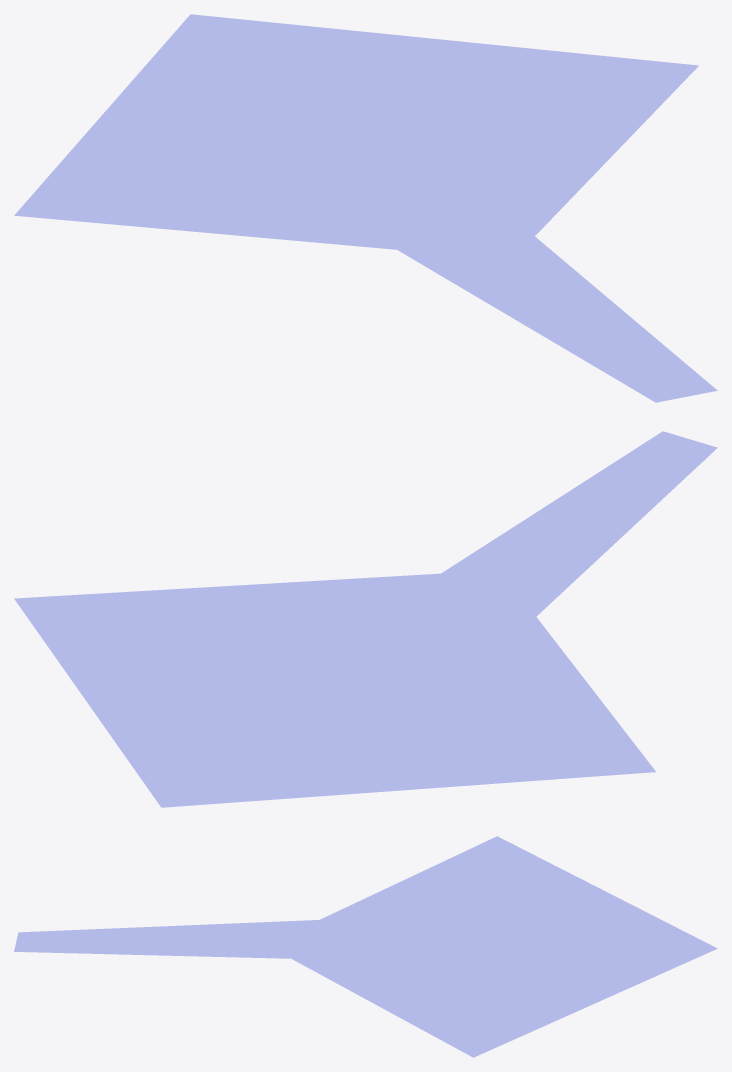
File: FluidPlane(Pond).fbx
The picture shows the model from 3 angles, top to bottom: view 1: azimuth 30°, elevation 25°; view 2: azimuth 150°, elevation 25°; view 3: azimuth 270°, elevation 25°; orthographic projection. The views are drawn at different scales.
Parts seen in each view (by area): view 1: Lake; view 2: Lake; view 3: Lake.
Part boxes in pixels (x1,y1,x2,y2): Lake: (14, 14, 717, 402); Lake: (15, 431, 717, 807); Lake: (14, 836, 717, 1057).
Bounding box in the file's own units: 23732 × 0.00519 × 31859.
